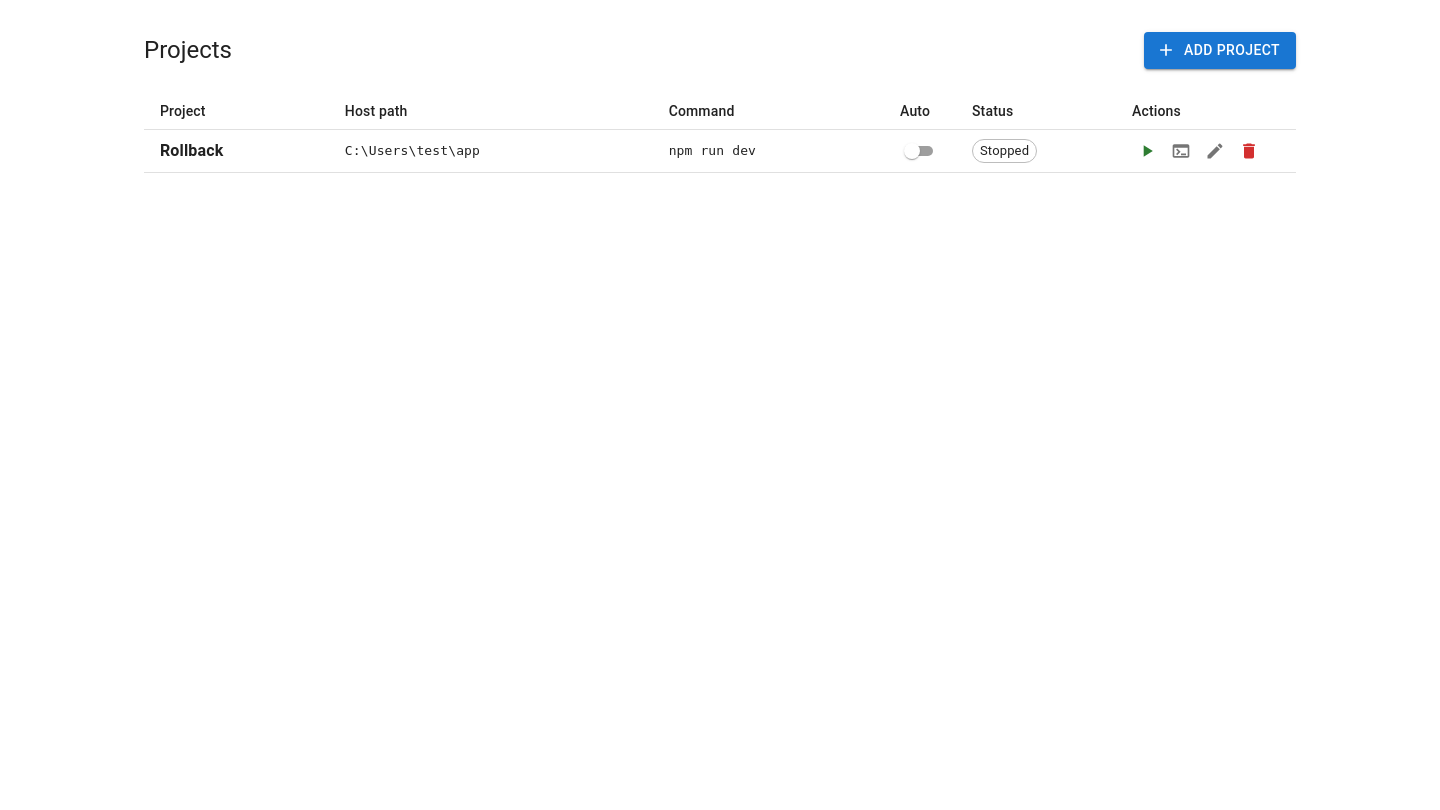
ProjectRegistryPage › autostart toggle › reverts Switch on API error (optimistic rollback)
Expected: the text "Rollback" is shown, left=160, top=140, right=223, bottom=160
Click the switch named "autostart rollback". click: point(912, 150)
box: left=904, top=142, right=920, bottom=158
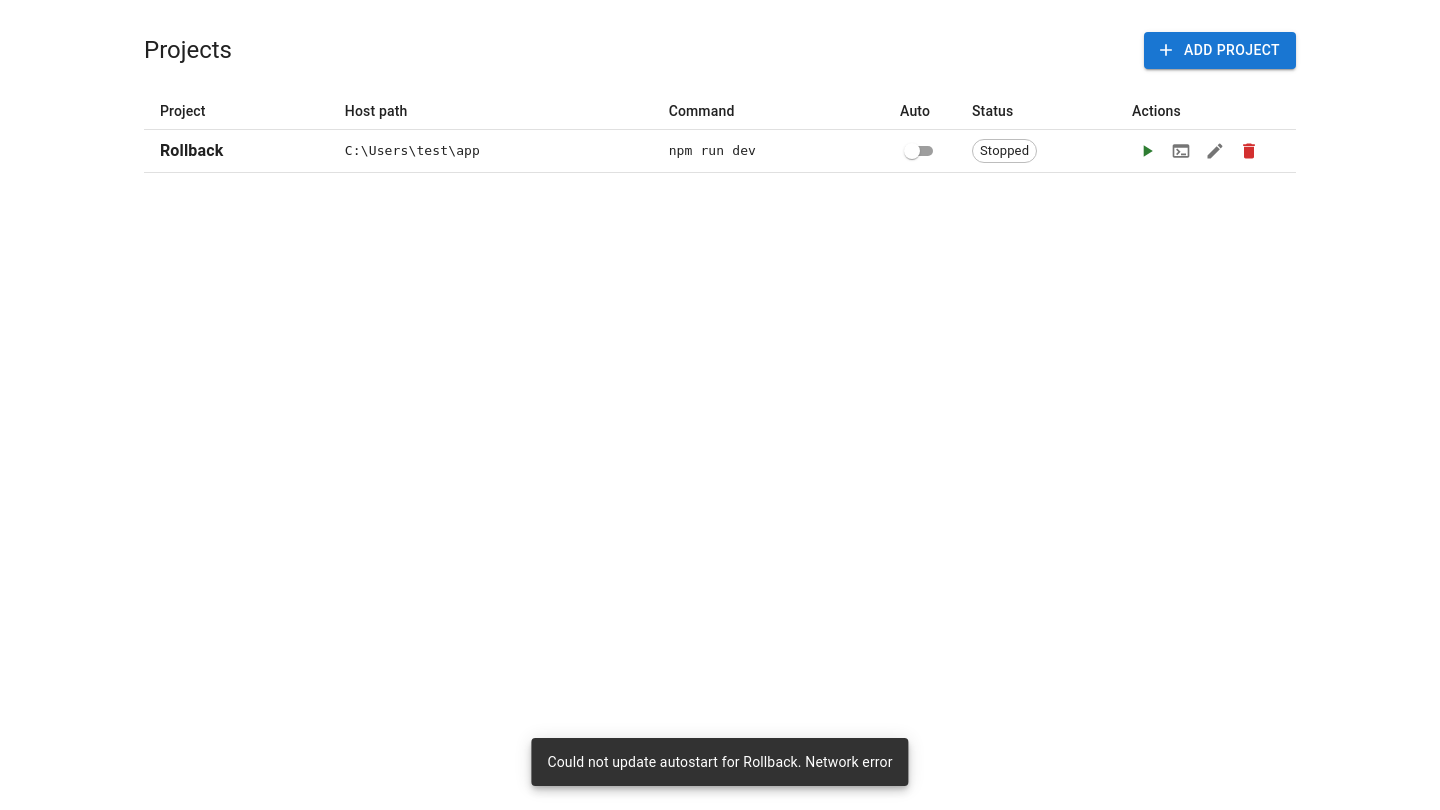
Expected: the text "Could not update autostart for Rollback. Network error" is shown, left=547, top=754, right=893, bottom=770
